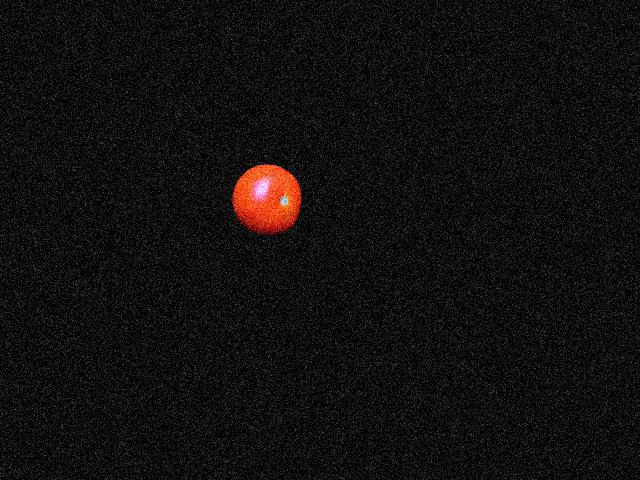tomato: (232, 164, 300, 235)
